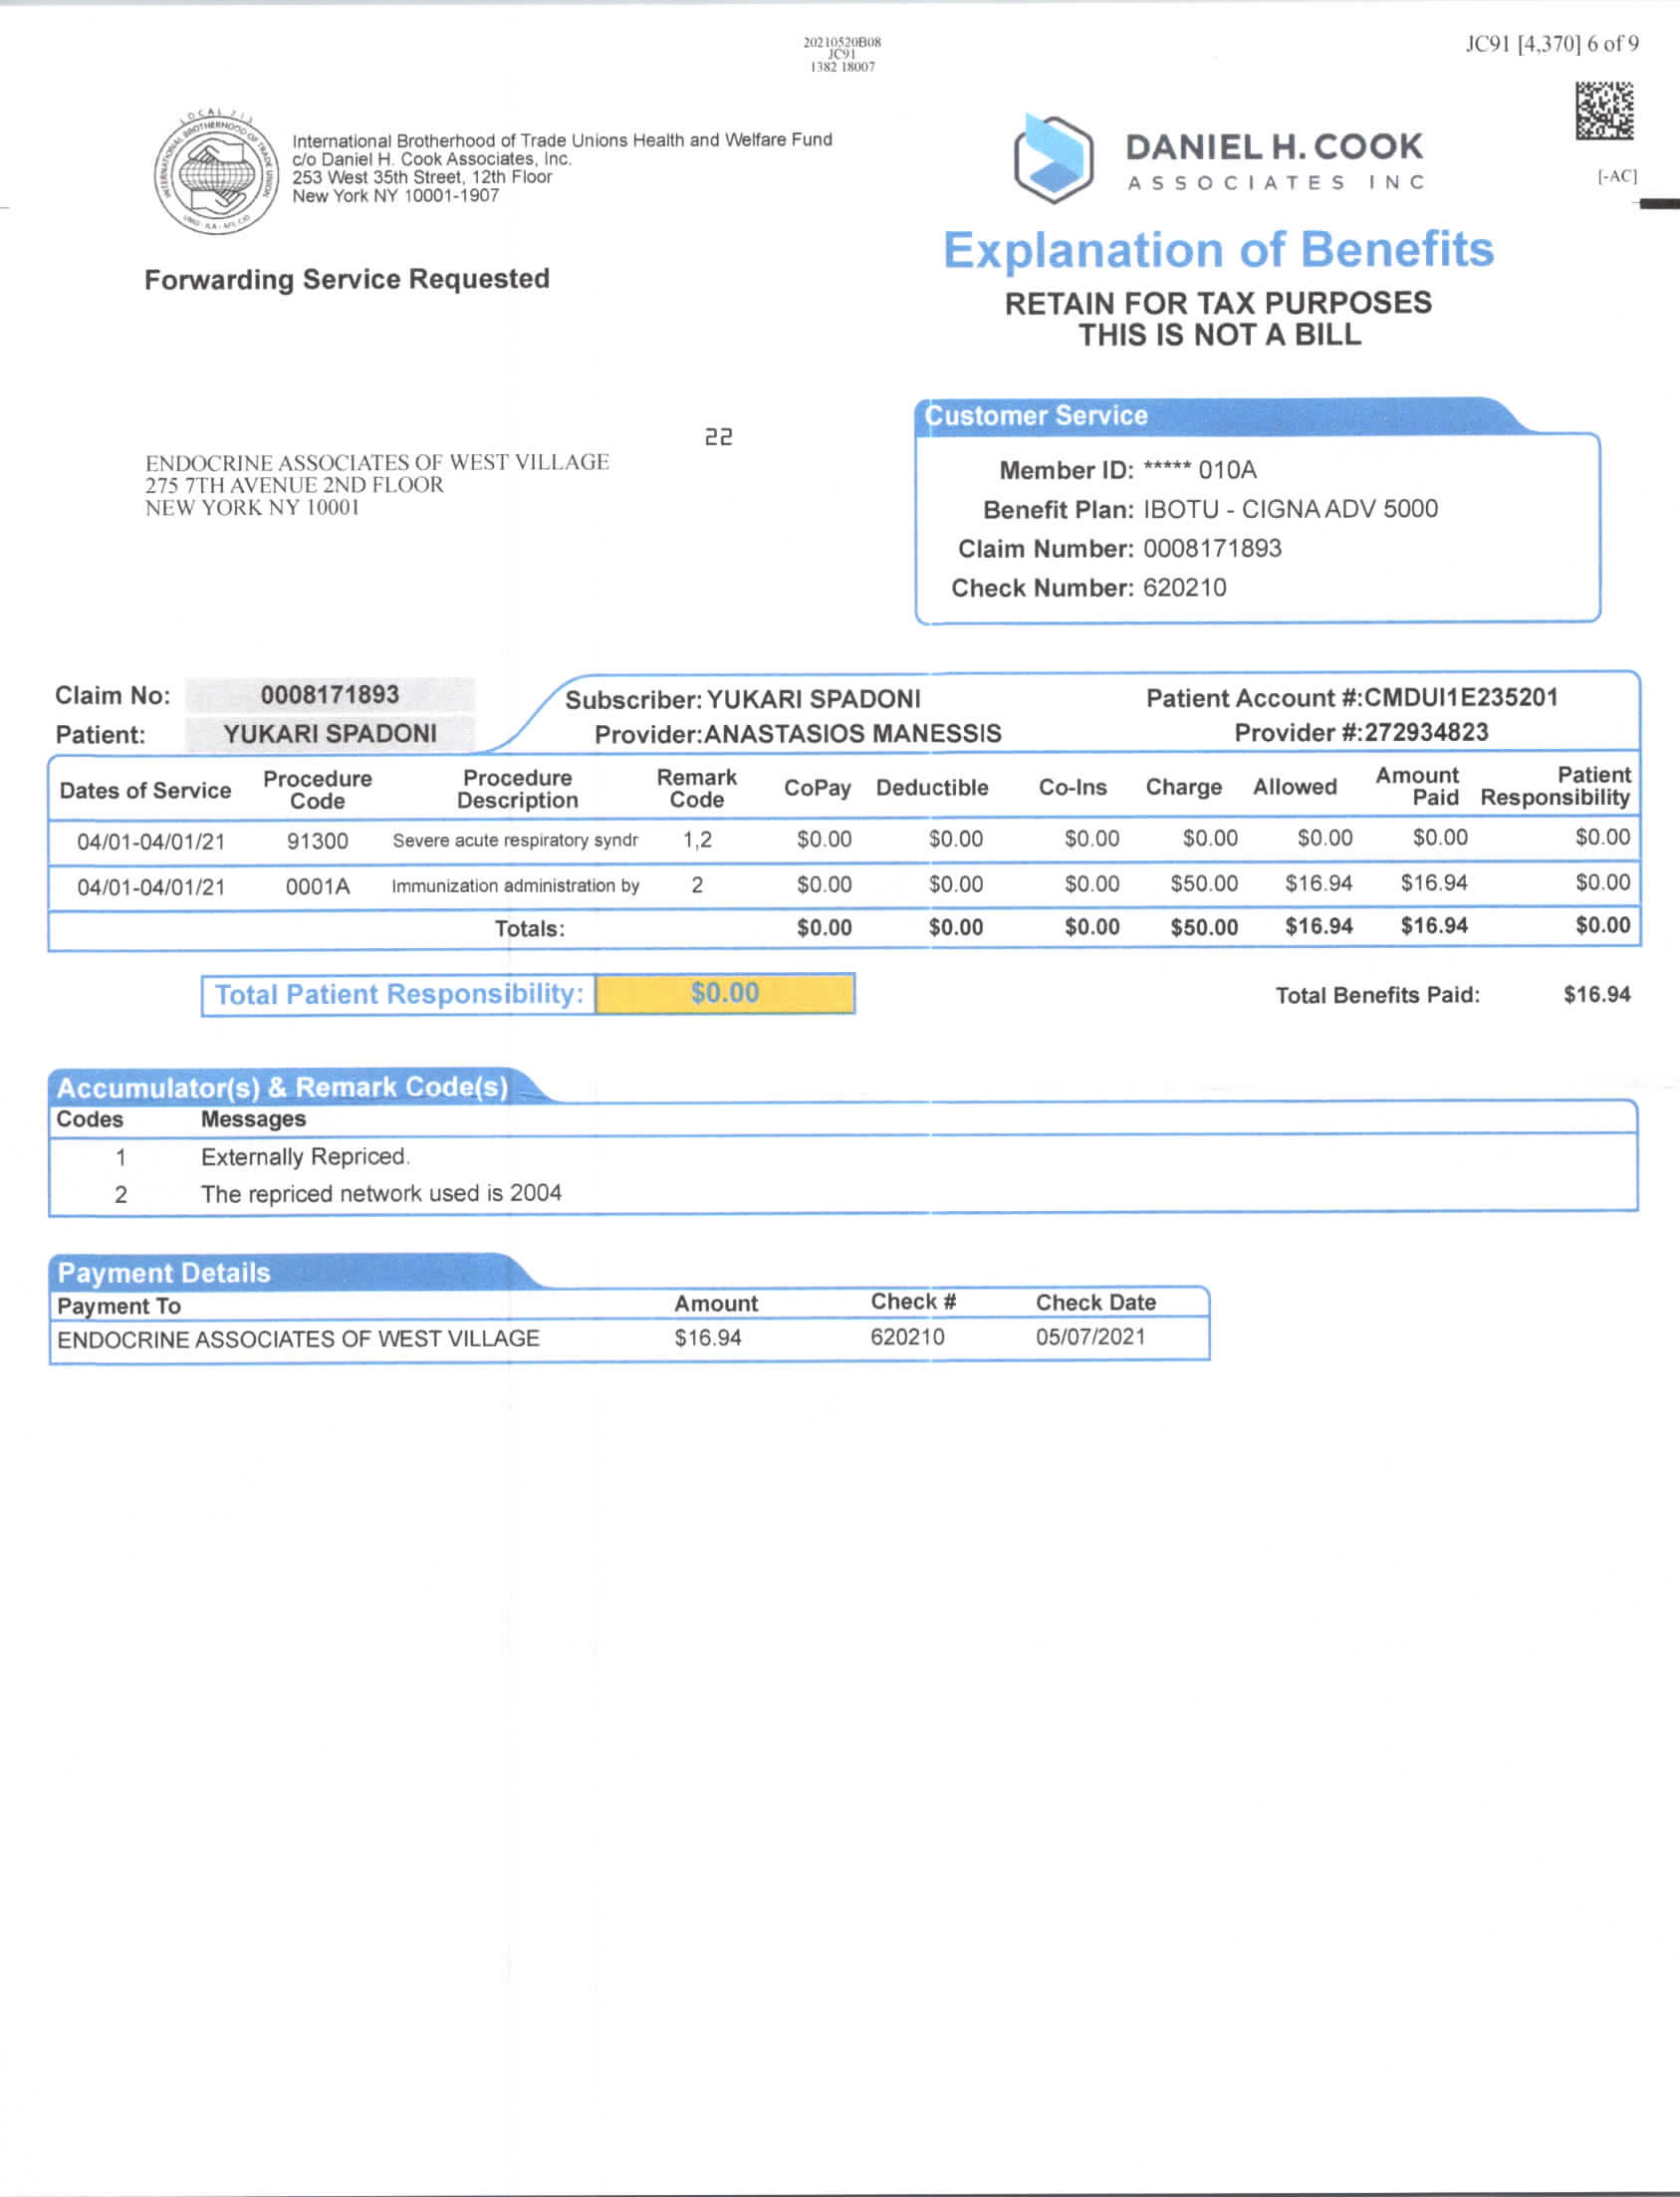data: (904, 392, 1613, 632), (44, 655, 489, 754), (563, 669, 1018, 748), (1147, 672, 1578, 741)
table: (41, 755, 1655, 955)
